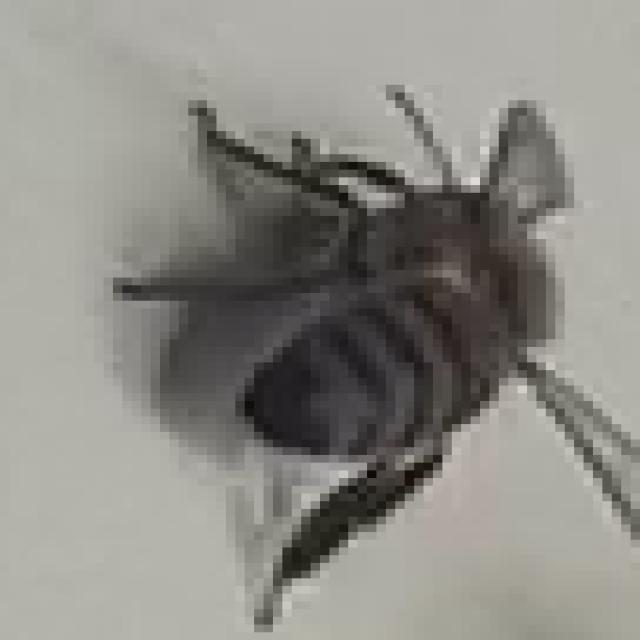honeybee: (135, 81, 632, 589)
